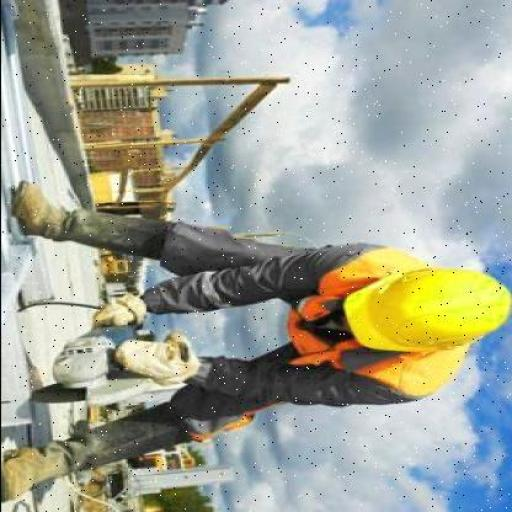person: (11, 166, 510, 504)
safety_shoe: (2, 406, 172, 508), (8, 187, 167, 255)
